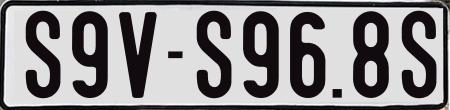6: (288, 10, 325, 102)
8: (353, 10, 390, 98)
9: (242, 8, 282, 97), (72, 8, 109, 100)
S: (194, 9, 234, 99), (25, 10, 61, 103), (399, 10, 429, 98)
V: (119, 11, 163, 99)
